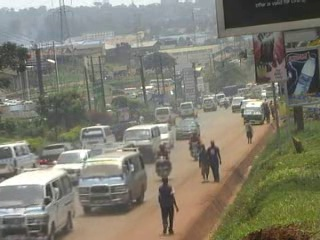Car: (50, 147, 94, 185), (37, 141, 80, 168), (175, 116, 202, 142), (154, 120, 174, 150), (218, 96, 231, 108)
Motorcycle: (153, 141, 174, 180), (185, 131, 206, 161), (221, 95, 229, 109)
